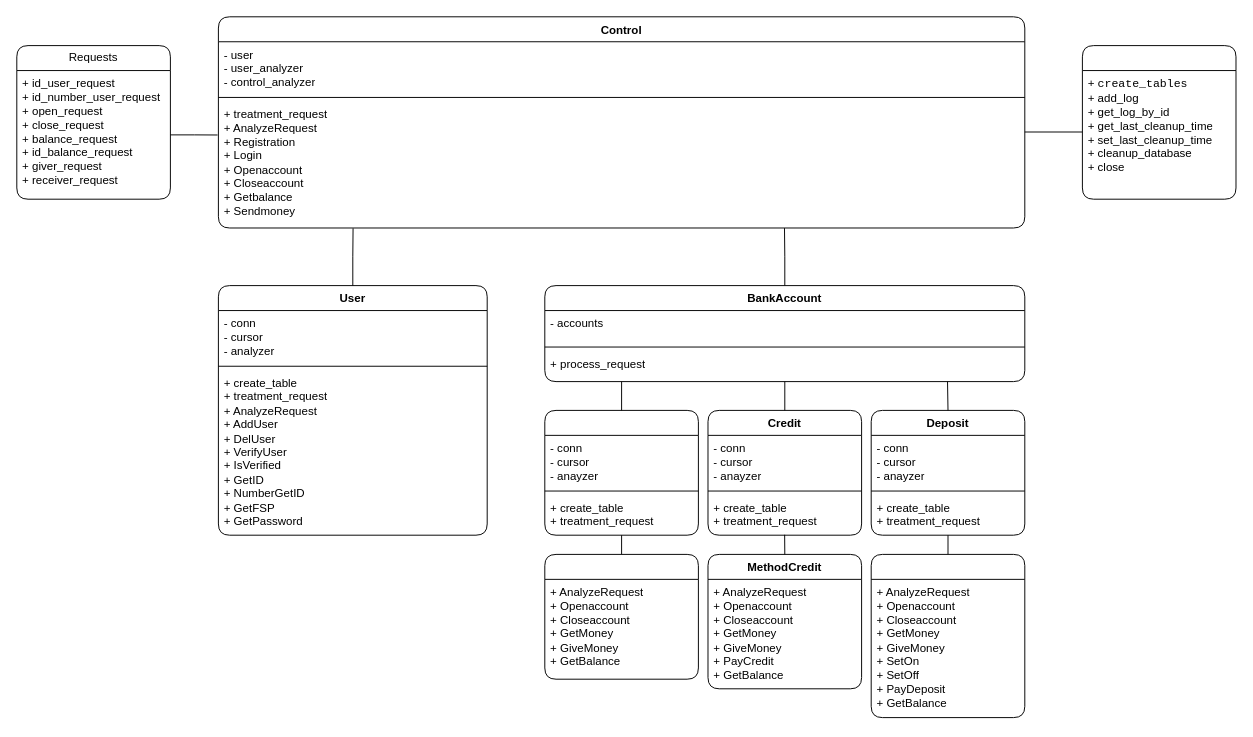
This 1253x737 diagram has some shape labels left out. The shapes that lost their labels are listed below. From the top down, each one's box as (x1, y1, x2, y2) in pixels, then its label:
(1081, 45, 1236, 199): Logs
(544, 409, 698, 535): Debit
(544, 553, 698, 679): MethodDebit
(870, 553, 1025, 718): MethodDeposit
